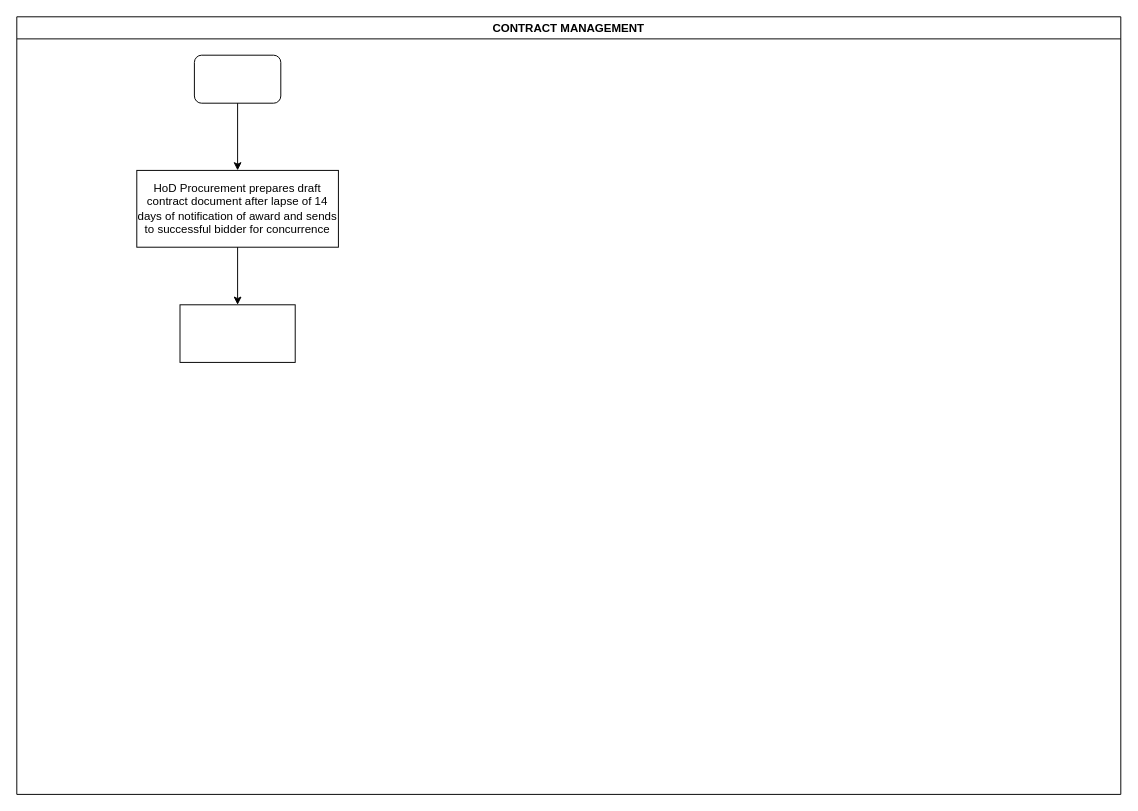
This 1138x811 diagram has some shape labels left out. Here are the shapes that lost their labels. From the top down, the box of each, then its label:
(193, 54, 281, 103): Start
(179, 304, 295, 362): HoD Procurement forwards draft contract to CEO for review
